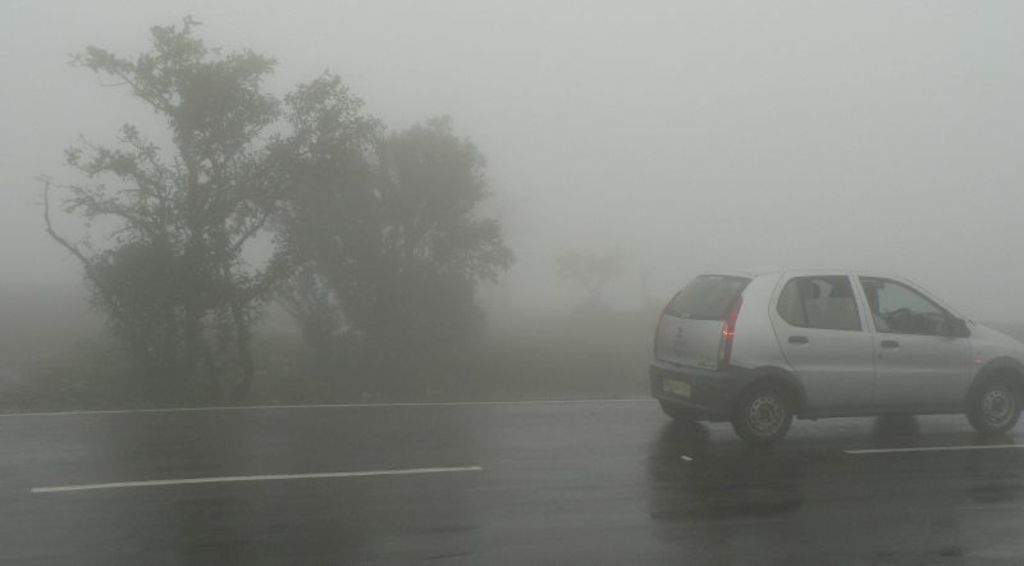Tree: (24, 10, 520, 404)
